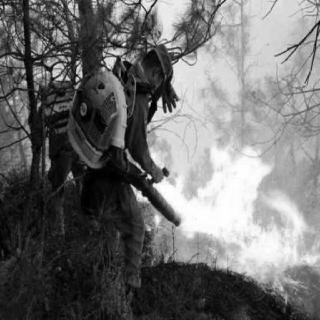Fire: (138, 105, 310, 272)
